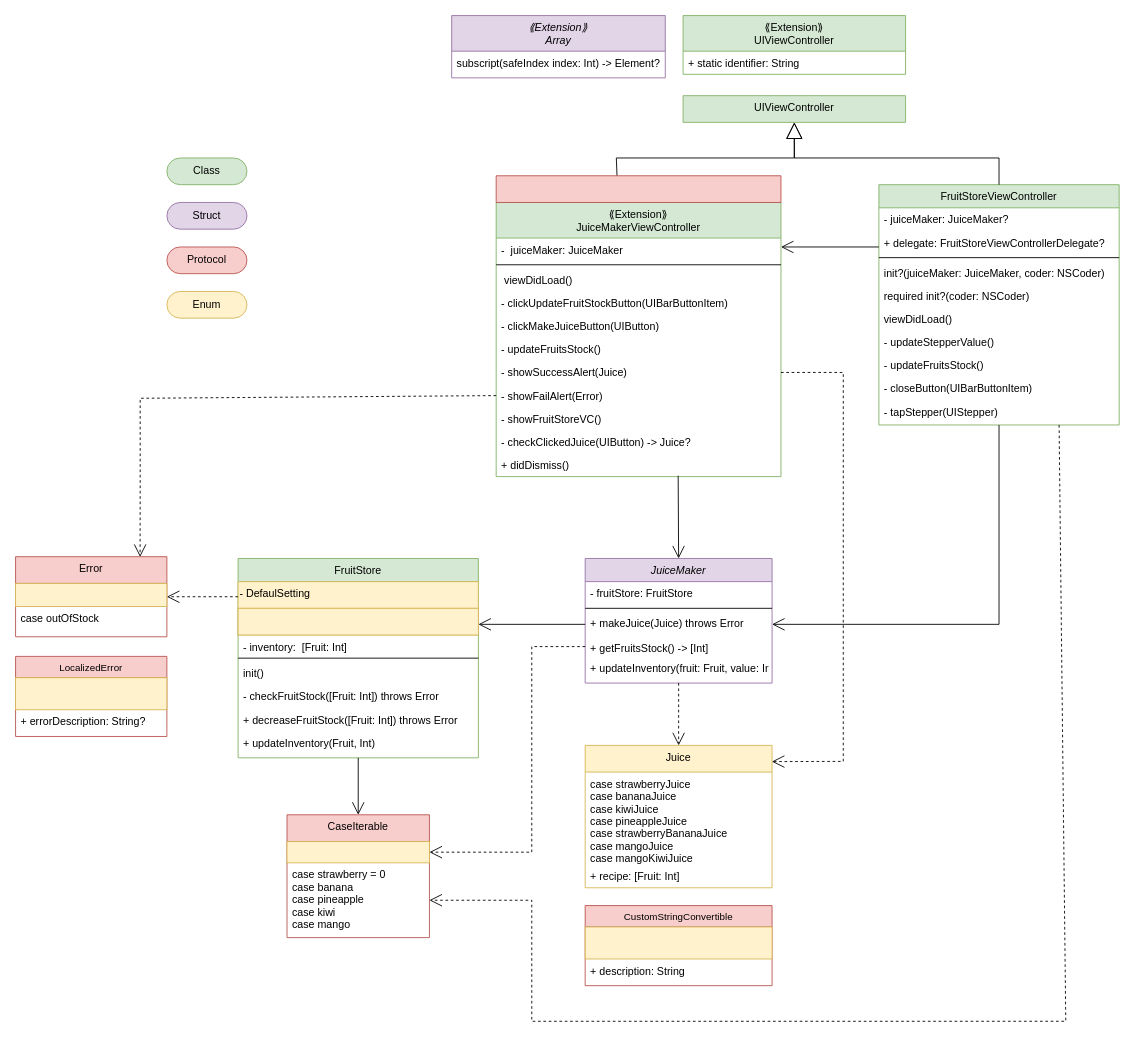
The diagram is 1135 pixels wide and 1049 high, and some of its shapes have lost their labels. The shapes that lost their labels are listed below. From the top down, each one's centre as x and y in pixels, then its label:
the point at 638,188: FruitStoreViewControllerDelegate
the point at 91,595: JuiceMakingError
the point at 357,621: + static stock = 10
the point at 91,693: ⟪Extension⟫ JuiceMakingError
the point at 357,852: Fruit: Int
the point at 678,942: ⟪Extension⟫ Juice
